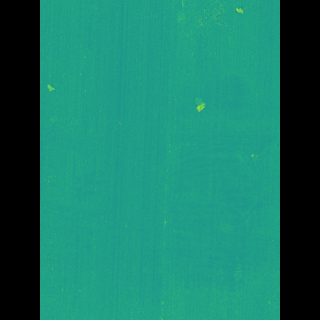Loch: (161, 65, 252, 307)
